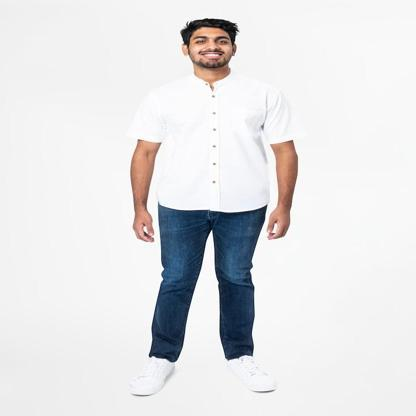person: (121, 12, 306, 399)
